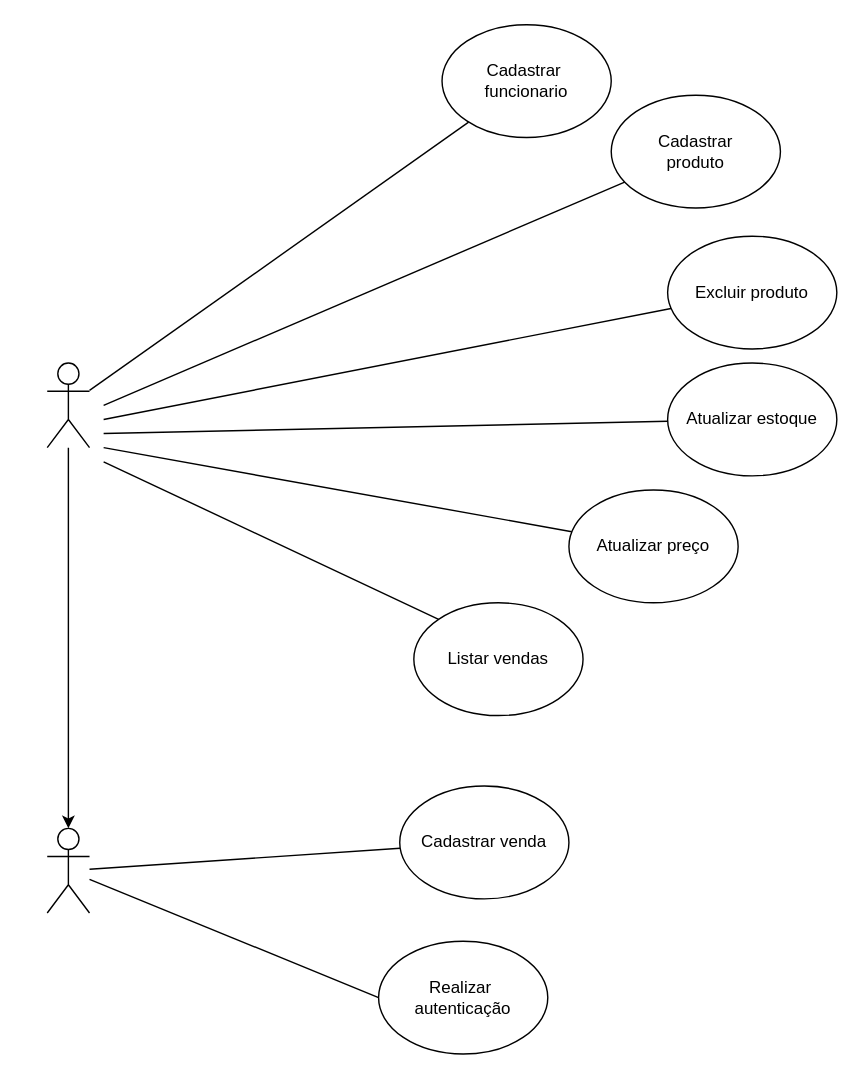
The diagram is 862 pixels wide and 1079 high, and some of its shapes have lost their labels. The centre of each missing label's shape, as x and y in pixels:
"Funcionario" belongs at [68,870].
"Gerente" belongs at [68,405].
